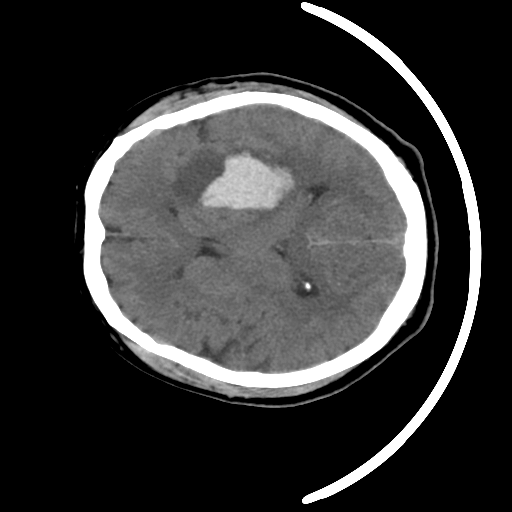a: (161, 138, 308, 223)
